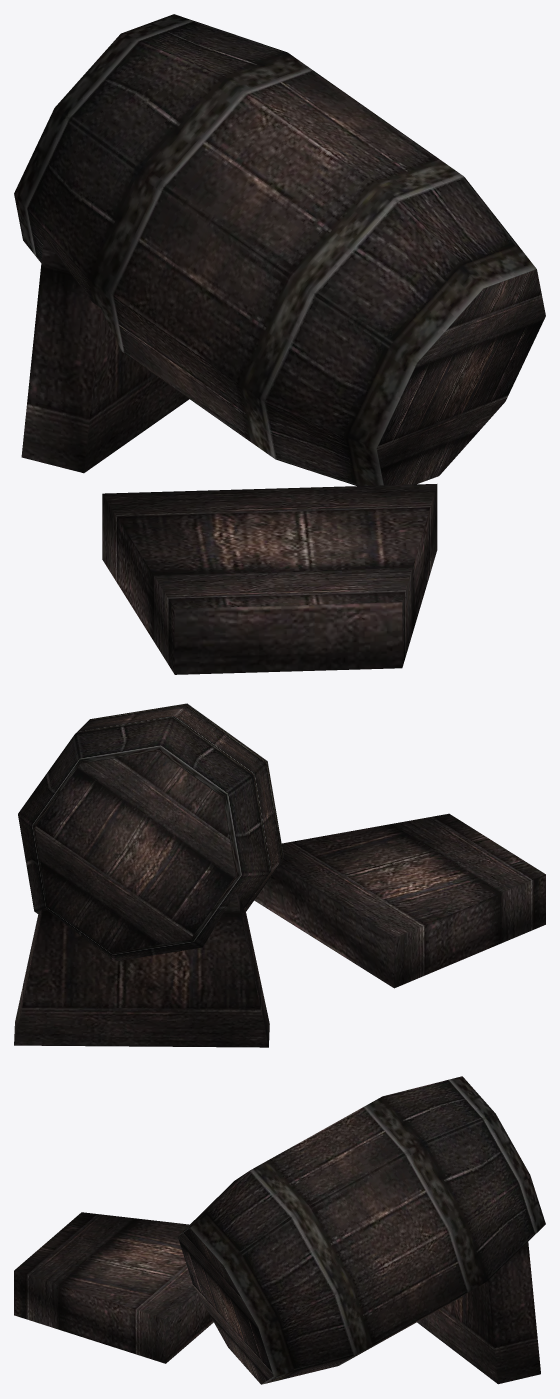
File: OC_BARREL_V2_DESTROYED.glb
3 renders of one model, top to bottom at view 1: azimuth 30°, elevation 25°; view 2: azimuth 150°, elevation 25°; view 3: azimuth 270°, elevation 25°, orthographic. The views are drawn at different scales.
Visible parts, largest first — view 1: Mesh; view 2: Mesh; view 3: Mesh.
Part boxes in pixels (x1=…): Mesh: x1=14, y1=14, x2=545, y2=674; Mesh: x1=14, y1=703, x2=545, y2=1047; Mesh: x1=14, y1=1076, x2=545, y2=1384.
Bounding box in the file's own units: 1.36 × 0.9817 × 1.85.
Materials: 1 (1 with a texture image).
